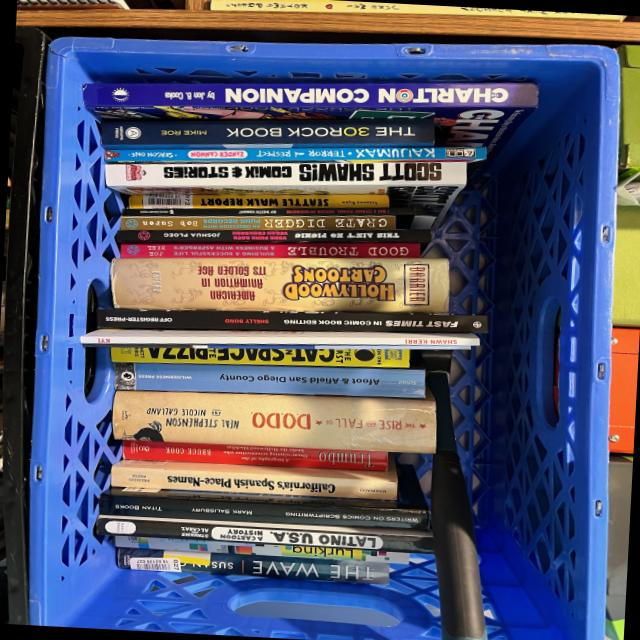book: (81, 82, 538, 151), (103, 144, 465, 219), (98, 457, 430, 530), (111, 389, 436, 454), (110, 255, 449, 314), (95, 514, 434, 554), (112, 361, 425, 398), (109, 460, 397, 500), (115, 546, 389, 586), (100, 118, 434, 150), (95, 308, 487, 335), (79, 328, 479, 352), (122, 439, 388, 472), (113, 536, 408, 564), (122, 201, 414, 229), (116, 225, 431, 249), (110, 346, 410, 368), (103, 146, 486, 163), (120, 242, 419, 259), (120, 215, 395, 232), (128, 193, 388, 209)
